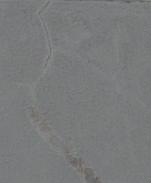fissura: (34, 0, 56, 82)
